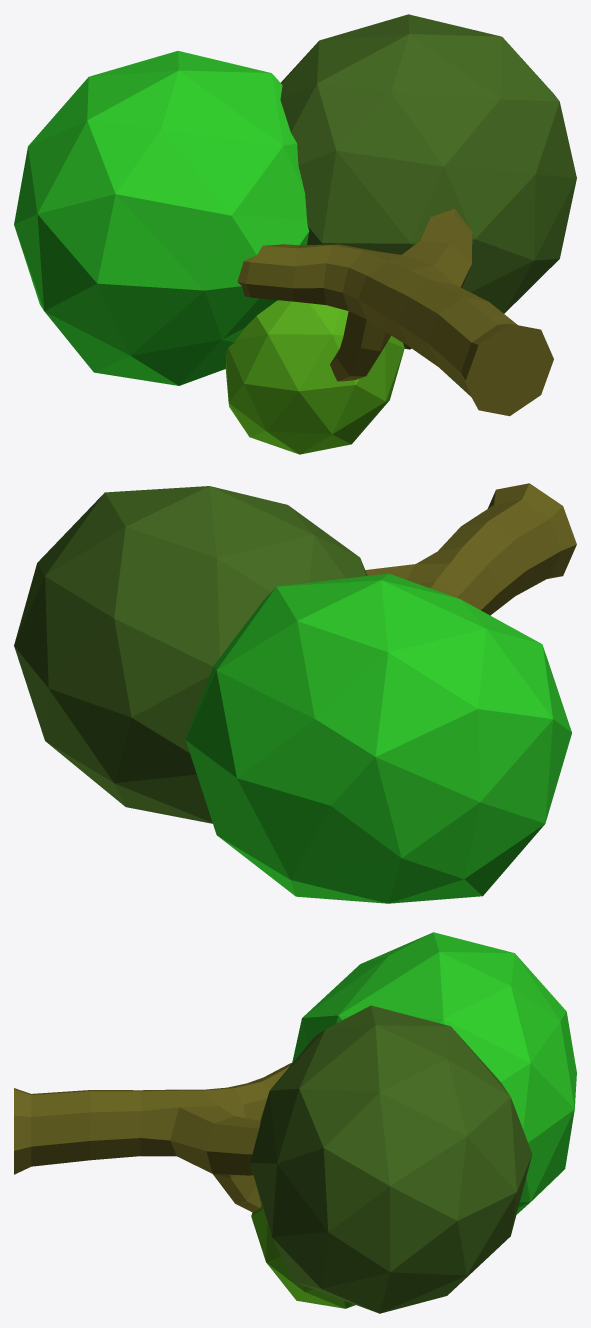
Rendered from OakTree_8.fbx.
3 views of the same model, one above another, from view 1: azimuth 30°, elevation 25°; view 2: azimuth 150°, elevation 25°; view 3: azimuth 270°, elevation 25° (orthographic). The views are drawn at different scales.
Visible parts, largest first — view 1: OakTree_8; view 2: OakTree_8; view 3: OakTree_8.
Boxes of the visible parts, left/top/right/bottom form: OakTree_8: left=14, top=14, right=576, bottom=454; OakTree_8: left=14, top=483, right=576, bottom=903; OakTree_8: left=14, top=932, right=576, bottom=1313.
Bounding box in the file's own units: 618 × 435 × 667.
